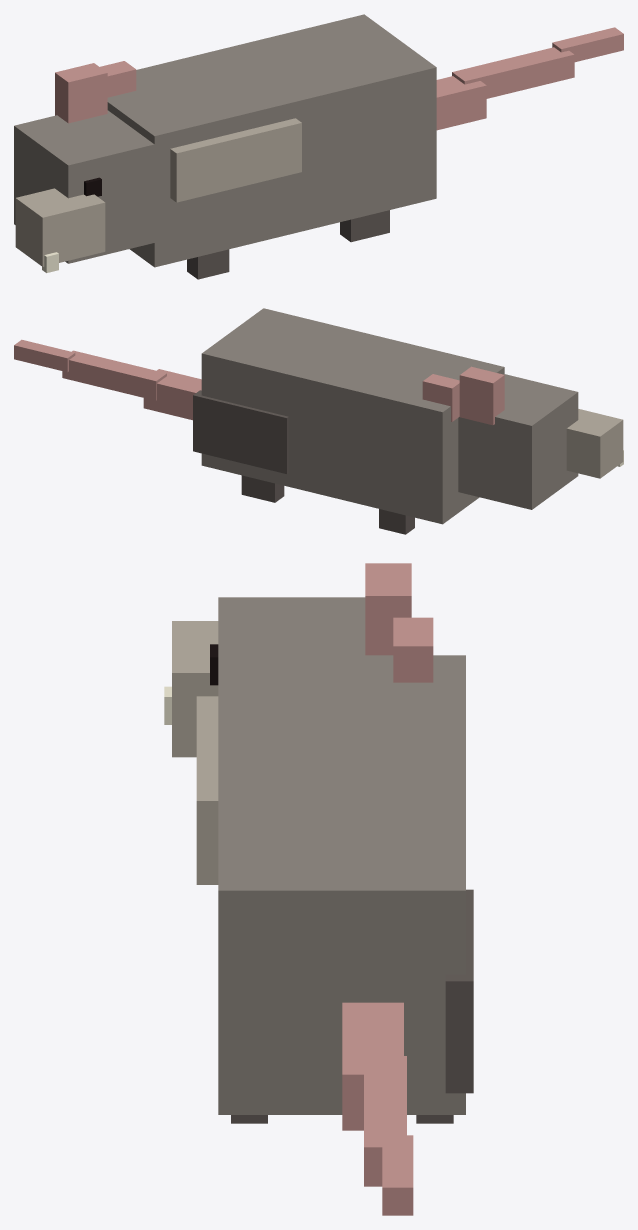
Rendered from voxel_rat_12px.glb.
3 renders of one model, top to bottom at view 1: azimuth 30°, elevation 25°; view 2: azimuth 150°, elevation 25°; view 3: azimuth 270°, elevation 25°, orthographic. The views are drawn at different scales.
Visible parts, largest first — view 1: body, head, body_highlight, snout, tail_mid, left_ear, tail_base, tail_tip, back_leg_-1, right_ear, front_leg_-1; view 2: body, head, body_shadow, snout, tail_mid, left_ear, tail_base, tail_tip, right_ear, back_leg_1, front_leg_1; view 3: body, head, tail_base, snout, tail_mid, body_highlight, body_shadow, left_ear, right_ear, tail_tip.
Boxes of the visible parts, left/top/right/bottom form: body: left=107, top=14, right=436, bottom=267; head: left=14, top=110, right=177, bottom=263; body_highlight: left=170, top=118, right=301, bottom=202; snout: left=15, top=188, right=105, bottom=266; tail_mid: left=452, top=47, right=574, bottom=98; left_ear: left=55, top=63, right=107, bottom=123; tail_base: left=436, top=76, right=486, bottom=130; tail_tip: left=552, top=27, right=623, bottom=62; back_leg_-1: left=340, top=210, right=389, bottom=242; right_ear: left=100, top=61, right=136, bottom=97; front_leg_-1: left=187, top=249, right=229, bottom=279; body: left=201, top=308, right=504, bottom=524; head: left=458, top=374, right=578, bottom=509; body_shadow: left=193, top=390, right=288, bottom=473; snout: left=566, top=409, right=623, bottom=478; tail_mid: left=62, top=350, right=166, bottom=400; left_ear: left=459, top=366, right=504, bottom=425; tail_base: left=143, top=369, right=201, bottom=420; tail_tip: left=14, top=339, right=75, bottom=372; right_ear: left=422, top=374, right=459, bottom=421; back_leg_1: left=241, top=475, right=284, bottom=502; front_leg_1: left=379, top=509, right=414, bottom=534; body: left=218, top=655, right=465, bottom=1114; head: left=218, top=597, right=365, bottom=655; tail_base: left=342, top=1002, right=403, bottom=1130; snout: left=172, top=621, right=218, bottom=757; tail_mid: left=364, top=1056, right=406, bottom=1186; body_highlight: left=196, top=696, right=218, bottom=884; body_shadow: left=445, top=889, right=473, bottom=1093; left_ear: left=365, top=563, right=411, bottom=655; right_ear: left=393, top=617, right=433, bottom=682; tail_tip: left=382, top=1135, right=413, bottom=1215.
Size of the model in its own units: 1.28 by 0.3625 by 0.3125.
